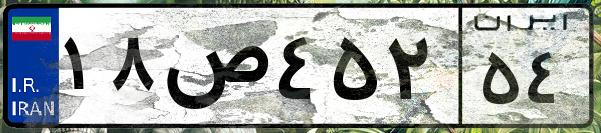1: (57, 26, 110, 100)
2: (385, 28, 445, 110)
4: (270, 28, 330, 110), (525, 38, 570, 115)
5: (330, 28, 385, 110), (475, 38, 525, 113)
8: (110, 28, 158, 98)
ص: (158, 20, 270, 120)
